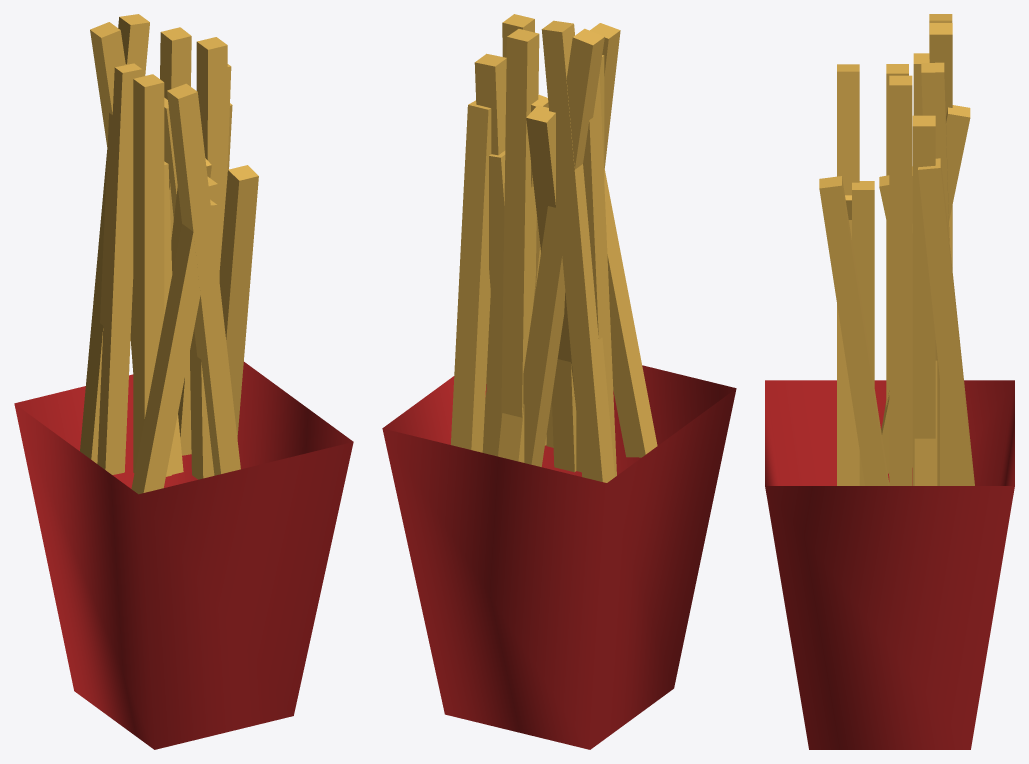
Rendered from papas-jumbo.glb.
3 views of the same model, side by side, from view 1: azimuth 30°, elevation 25°; view 2: azimuth 150°, elevation 25°; view 3: azimuth 270°, elevation 25° (orthographic). The views are drawn at different scales.
Size of the model in its own units: 0.0737 by 0.22 by 0.0737.
